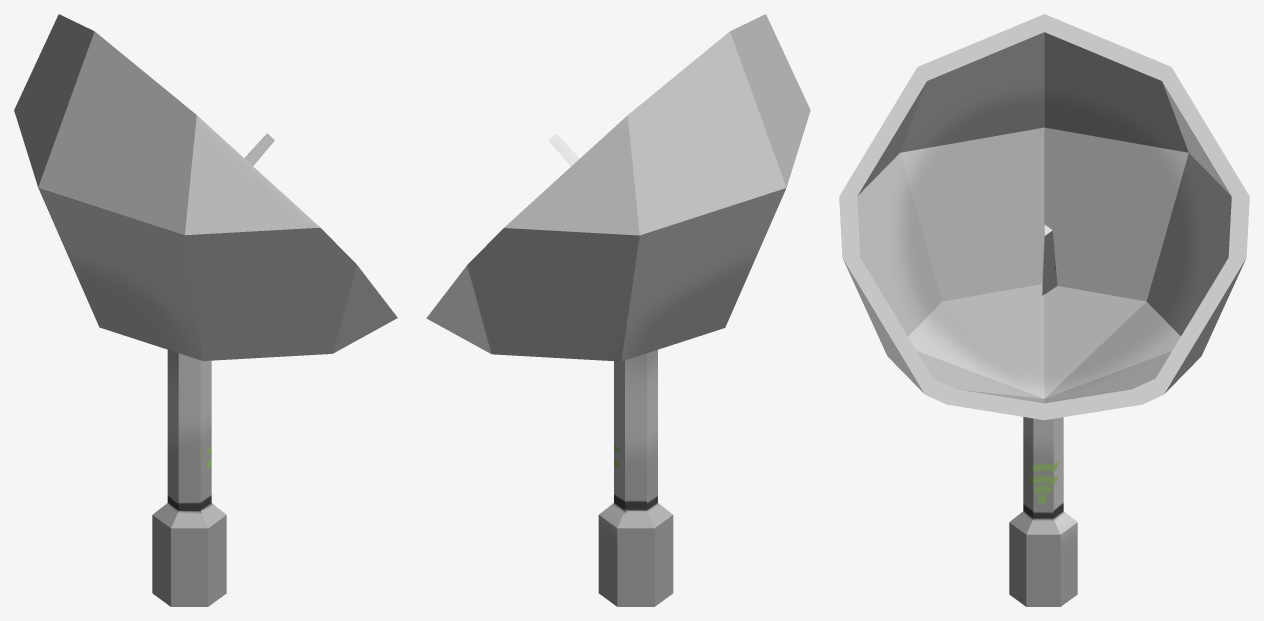
The model's file is Antenna.fbx.
The picture shows the model from 3 angles, left to right: view 1: azimuth 30°, elevation 25°; view 2: azimuth 150°, elevation 25°; view 3: azimuth 270°, elevation 25°; orthographic projection. The views are drawn at different scales.
Parts seen in each view (by area): view 1: Cylinder; view 2: Cylinder; view 3: Cylinder.
Part boxes in pixels (left/top/right/bottom): Cylinder: left=14, top=14, right=397, bottom=606; Cylinder: left=426, top=14, right=810, bottom=606; Cylinder: left=839, top=14, right=1249, bottom=606.
Size of the model in its own units: 737 by 1324 by 916.
